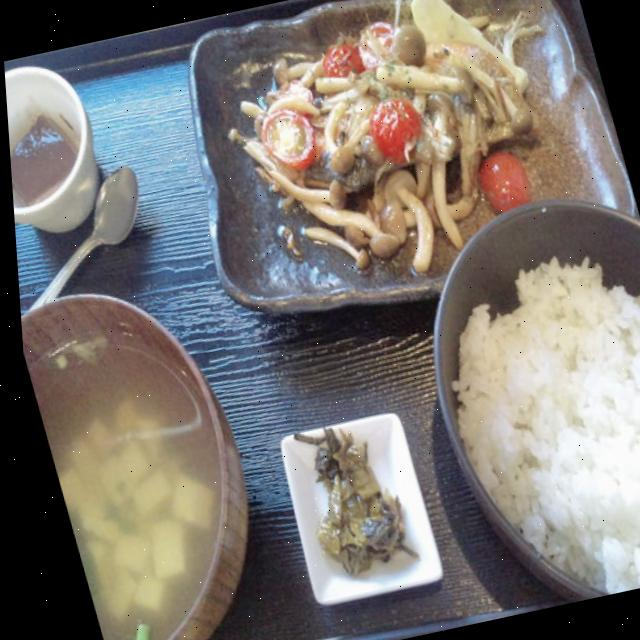汤锅炖物: (16, 298, 273, 640)
熟制海鲜: (200, 0, 585, 295)
米饭主食: (396, 230, 640, 618)
